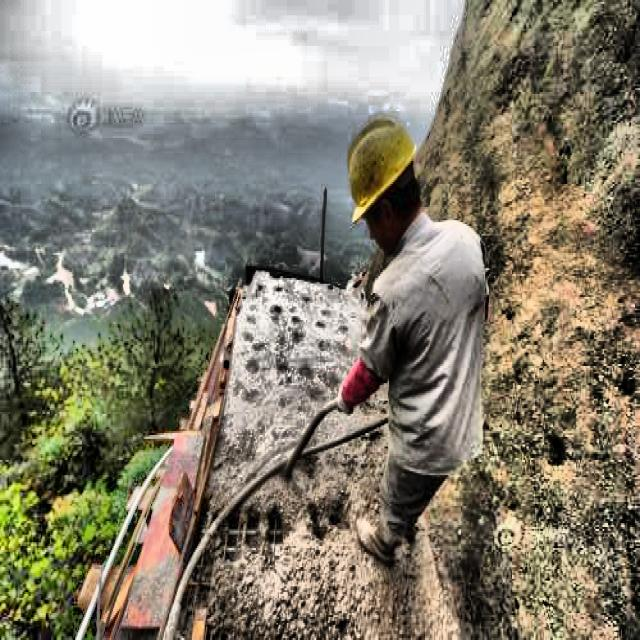helmet: (334, 92, 431, 264)
